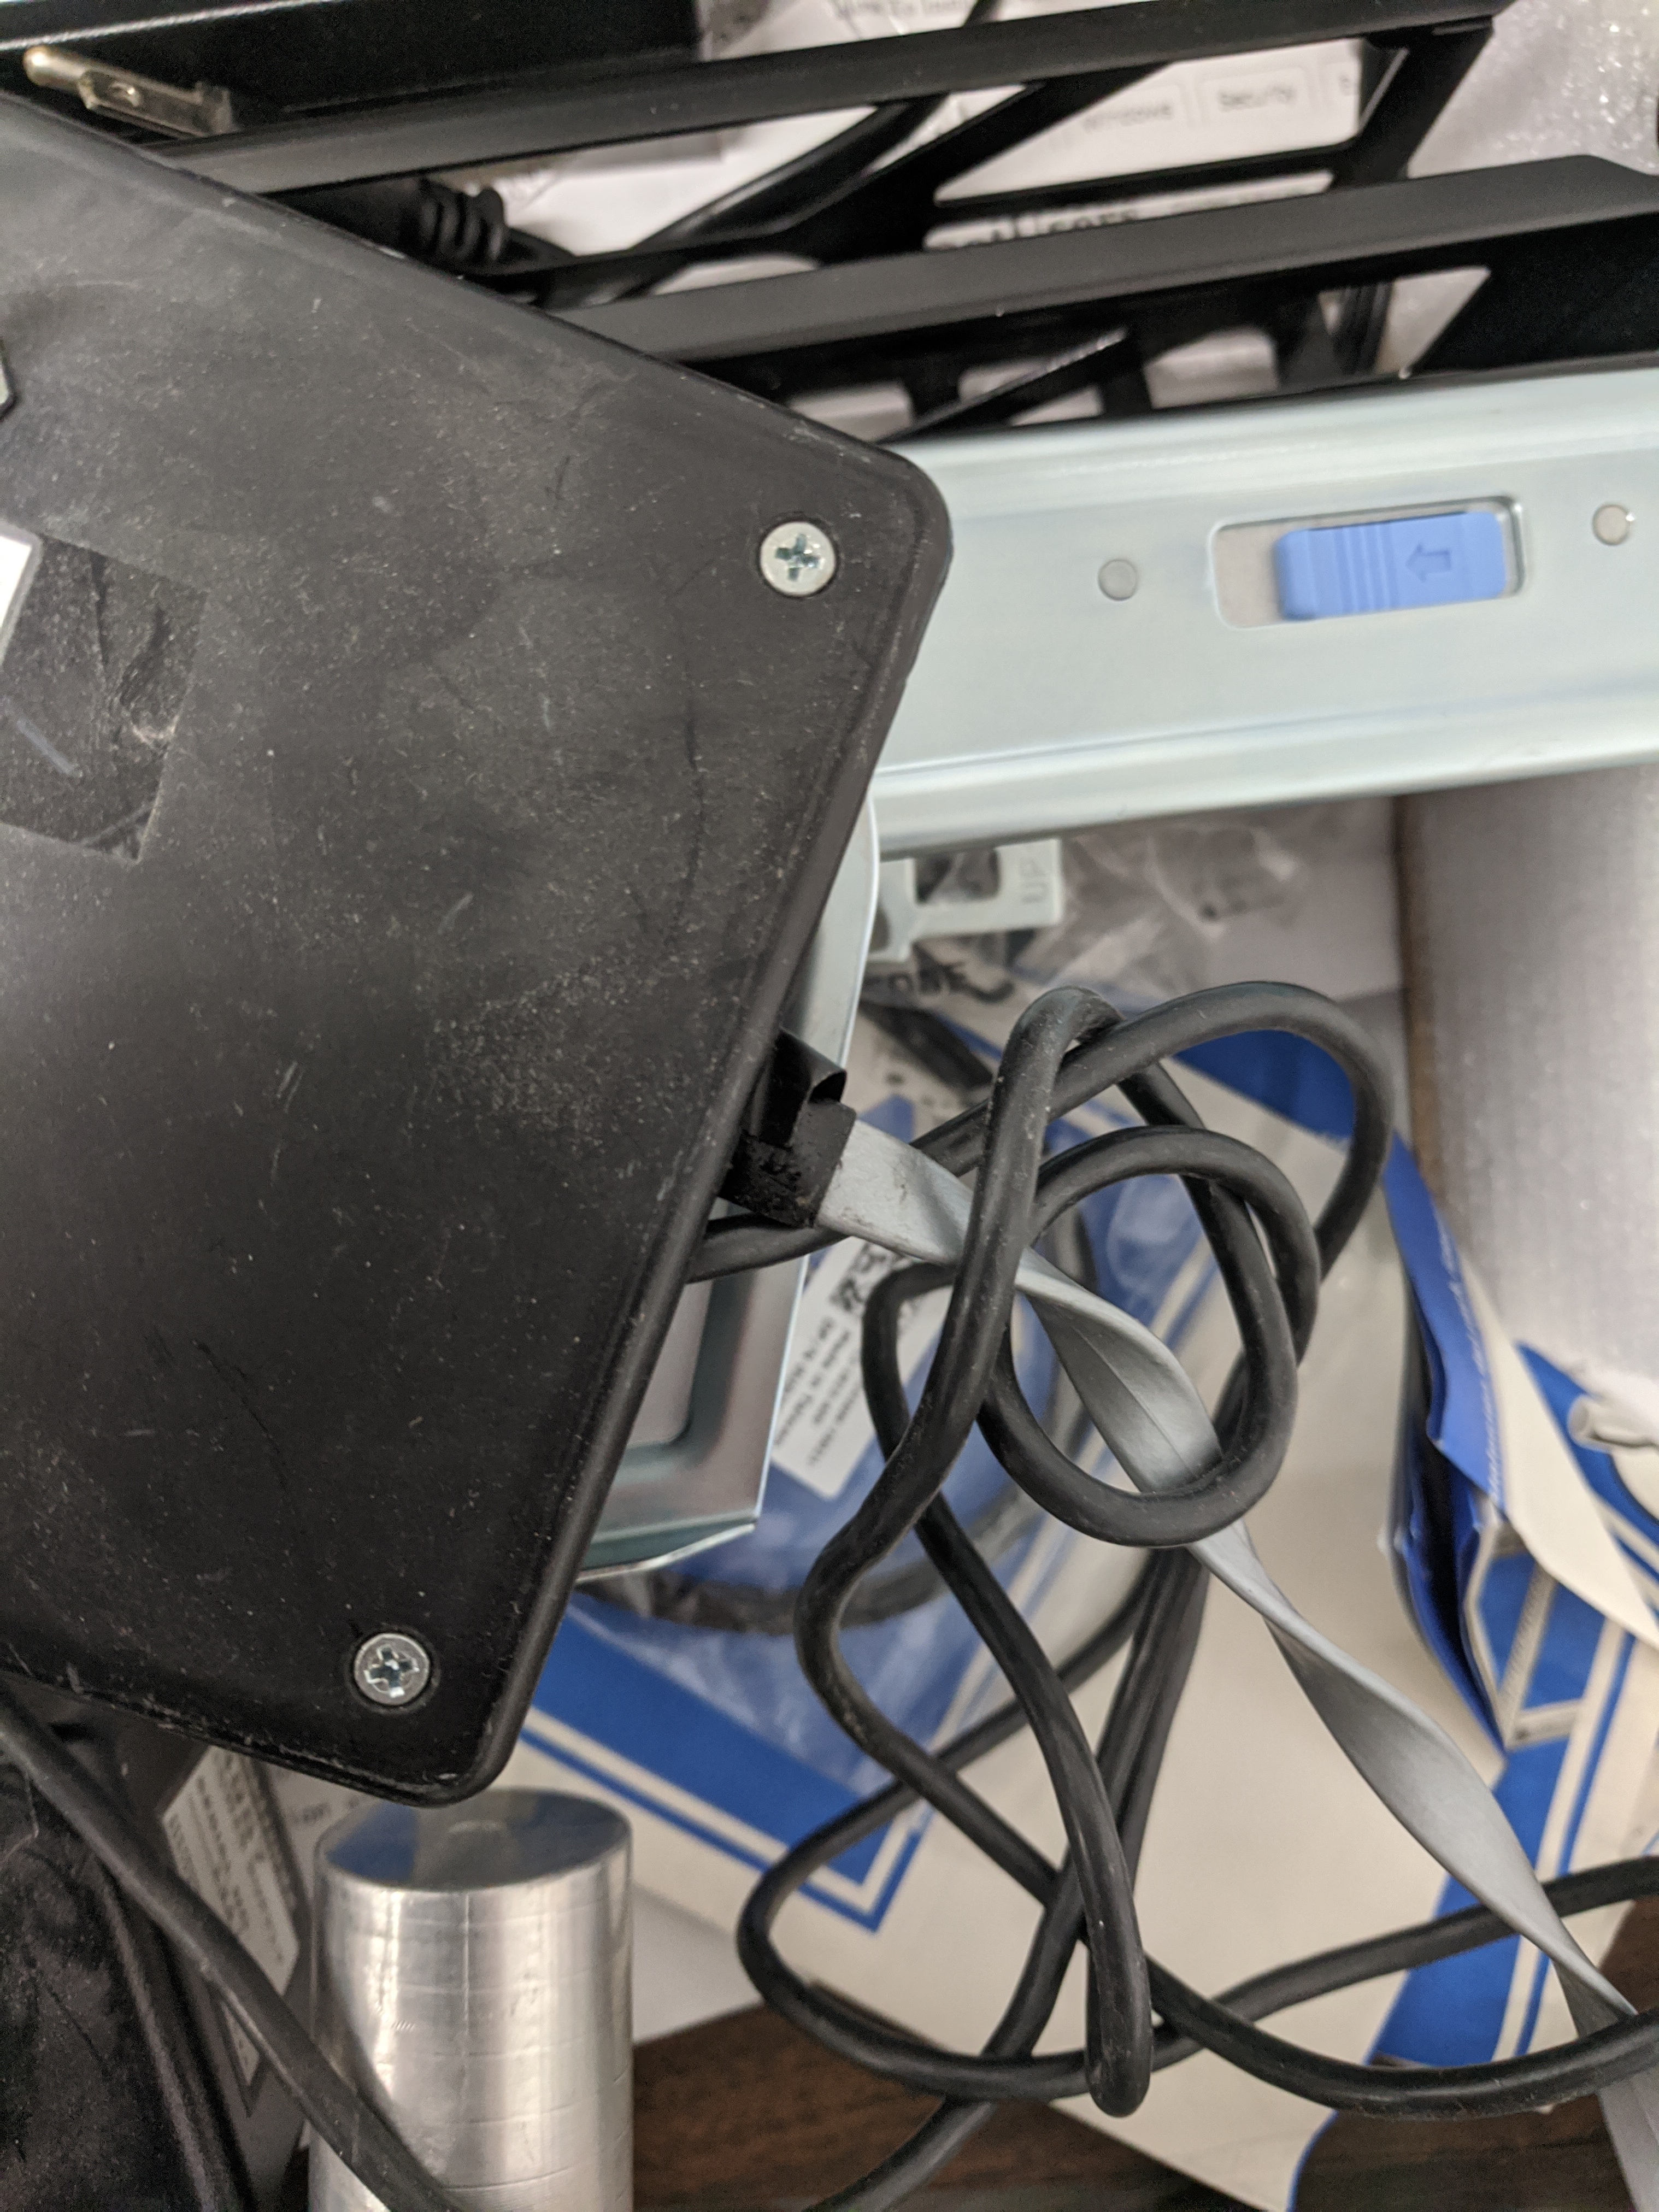cross_recessed_screw: (735, 500, 852, 603), (343, 1613, 436, 1712)
